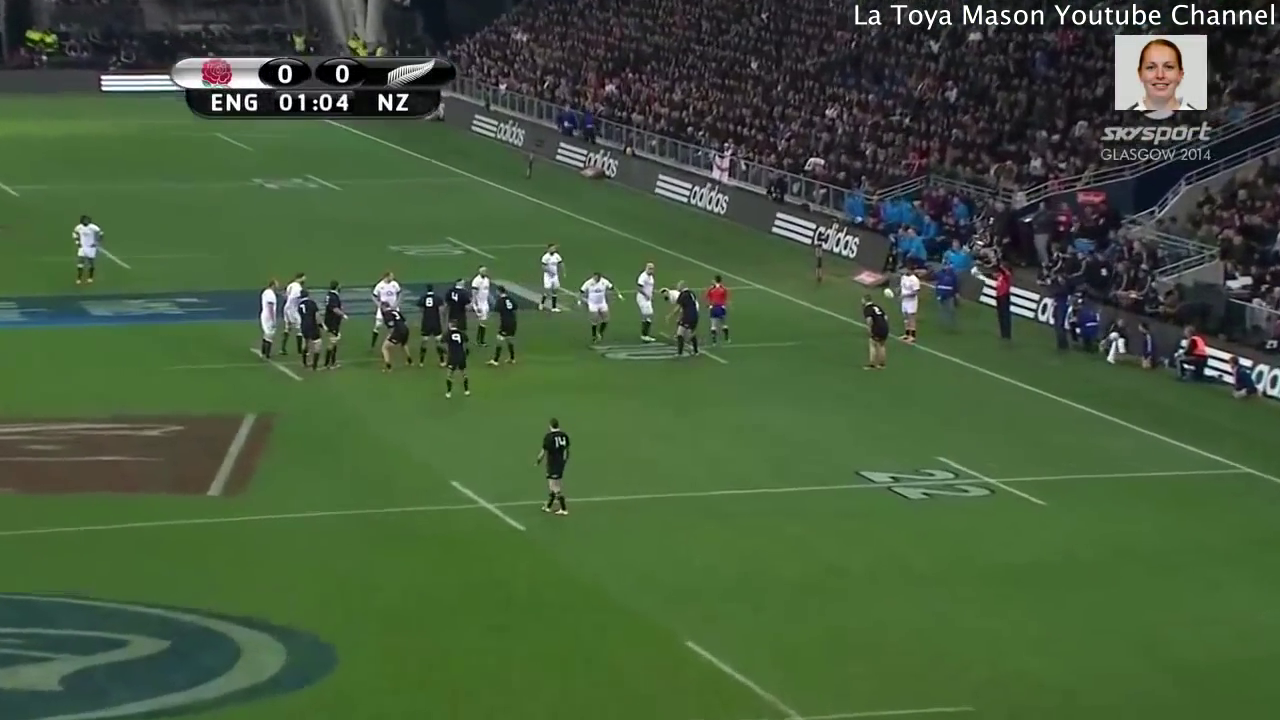10_metre: (591, 321, 806, 371), (159, 341, 373, 390), (377, 232, 544, 269)
ball: (880, 280, 898, 306)
lineout: (250, 238, 812, 382)
player: (537, 416, 572, 526), (572, 270, 621, 345), (65, 212, 110, 287), (249, 276, 285, 365), (377, 298, 415, 377), (414, 283, 449, 368), (698, 273, 738, 347), (857, 289, 893, 371), (277, 268, 308, 363), (534, 240, 569, 320), (320, 278, 349, 373), (629, 254, 659, 344), (668, 280, 701, 358), (443, 312, 470, 406), (488, 282, 517, 369), (299, 283, 325, 376), (465, 262, 491, 349), (899, 260, 922, 344), (364, 269, 401, 308), (438, 273, 470, 318)
